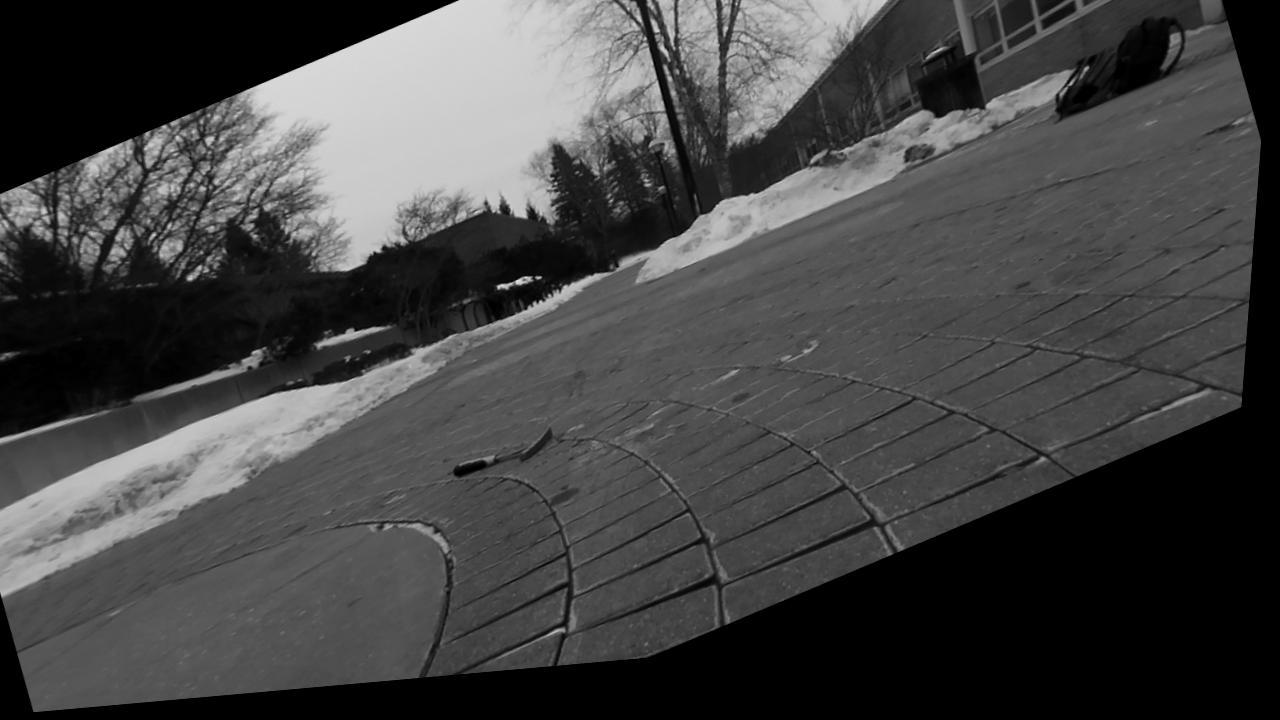pick: (453, 426, 552, 476)
